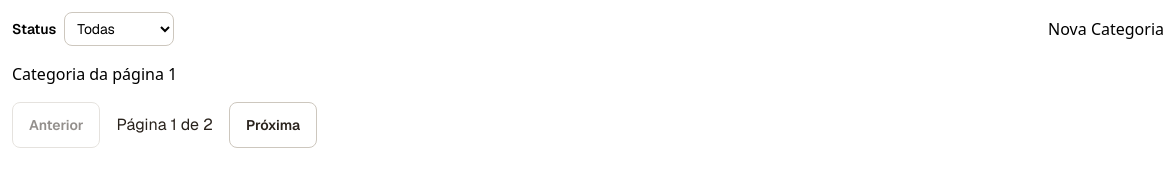
Scenario: CategoryList › paginação: "Próxima" busca a página seguinte com o page correto; "Anterior" desabilitado na primeira página
The width and height of the screenshot is (1176, 172).
Expected: the text "Página 1 de 2" is shown, [116,113,213,137]
Expected: the button "Anterior" is disabled, [12,102,100,148]
Step 1. Click the button "Próxima" → (273, 125), box [229,102,317,148]
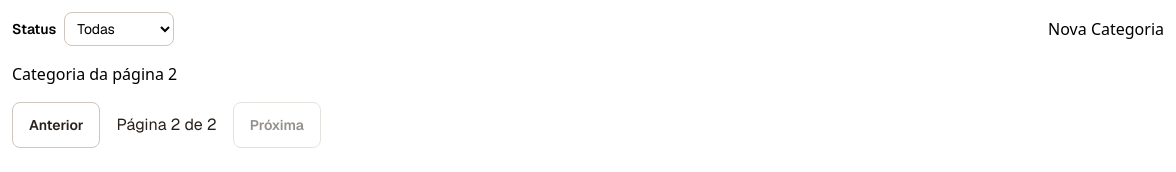
Expected: the text "Página 2 de 2" is shown, [116,113,217,137]
Expected: the button "Próxima" is disabled, [233,102,321,148]
